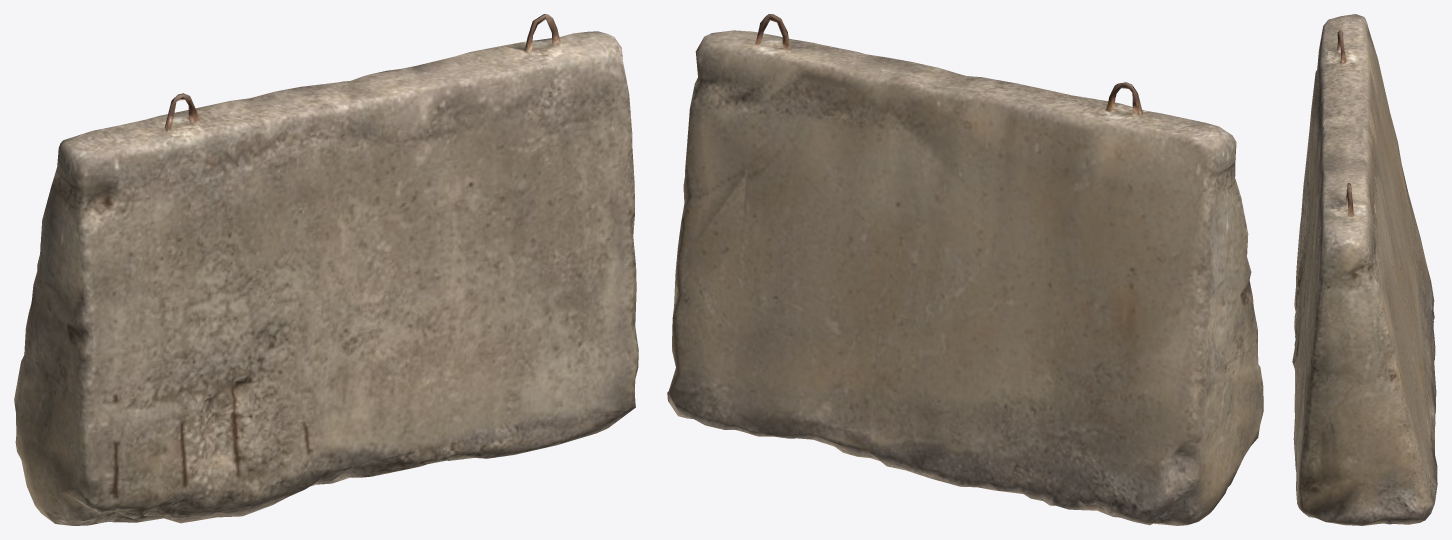
Rendered from barrier_jersey.glb.
The picture shows the model from 3 angles, left to right: view 1: azimuth 30°, elevation 25°; view 2: azimuth 150°, elevation 25°; view 3: azimuth 270°, elevation 25°; orthographic projection. The views are drawn at different scales.
Parts seen in each view (by area): view 1: concrete_road_barrier_02; view 2: concrete_road_barrier_02; view 3: concrete_road_barrier_02.
Boxes of the visible parts, box(x1,y1,x2,y2) form: concrete_road_barrier_02: box(14, 14, 638, 525); concrete_road_barrier_02: box(667, 14, 1263, 525); concrete_road_barrier_02: box(1292, 14, 1437, 525).
Bounding box in the file's own units: 1.56 × 1.11 × 0.4418.
Materials: 1 (1 with a texture image).
